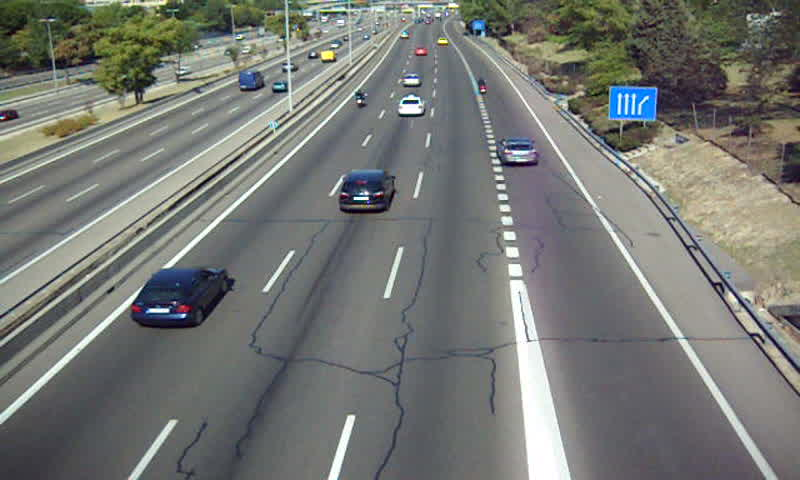car: (130, 266, 228, 328), (338, 169, 396, 210), (495, 136, 538, 167), (397, 95, 425, 116), (402, 72, 421, 87)
motorcycle: (355, 89, 370, 111), (476, 78, 488, 96)
